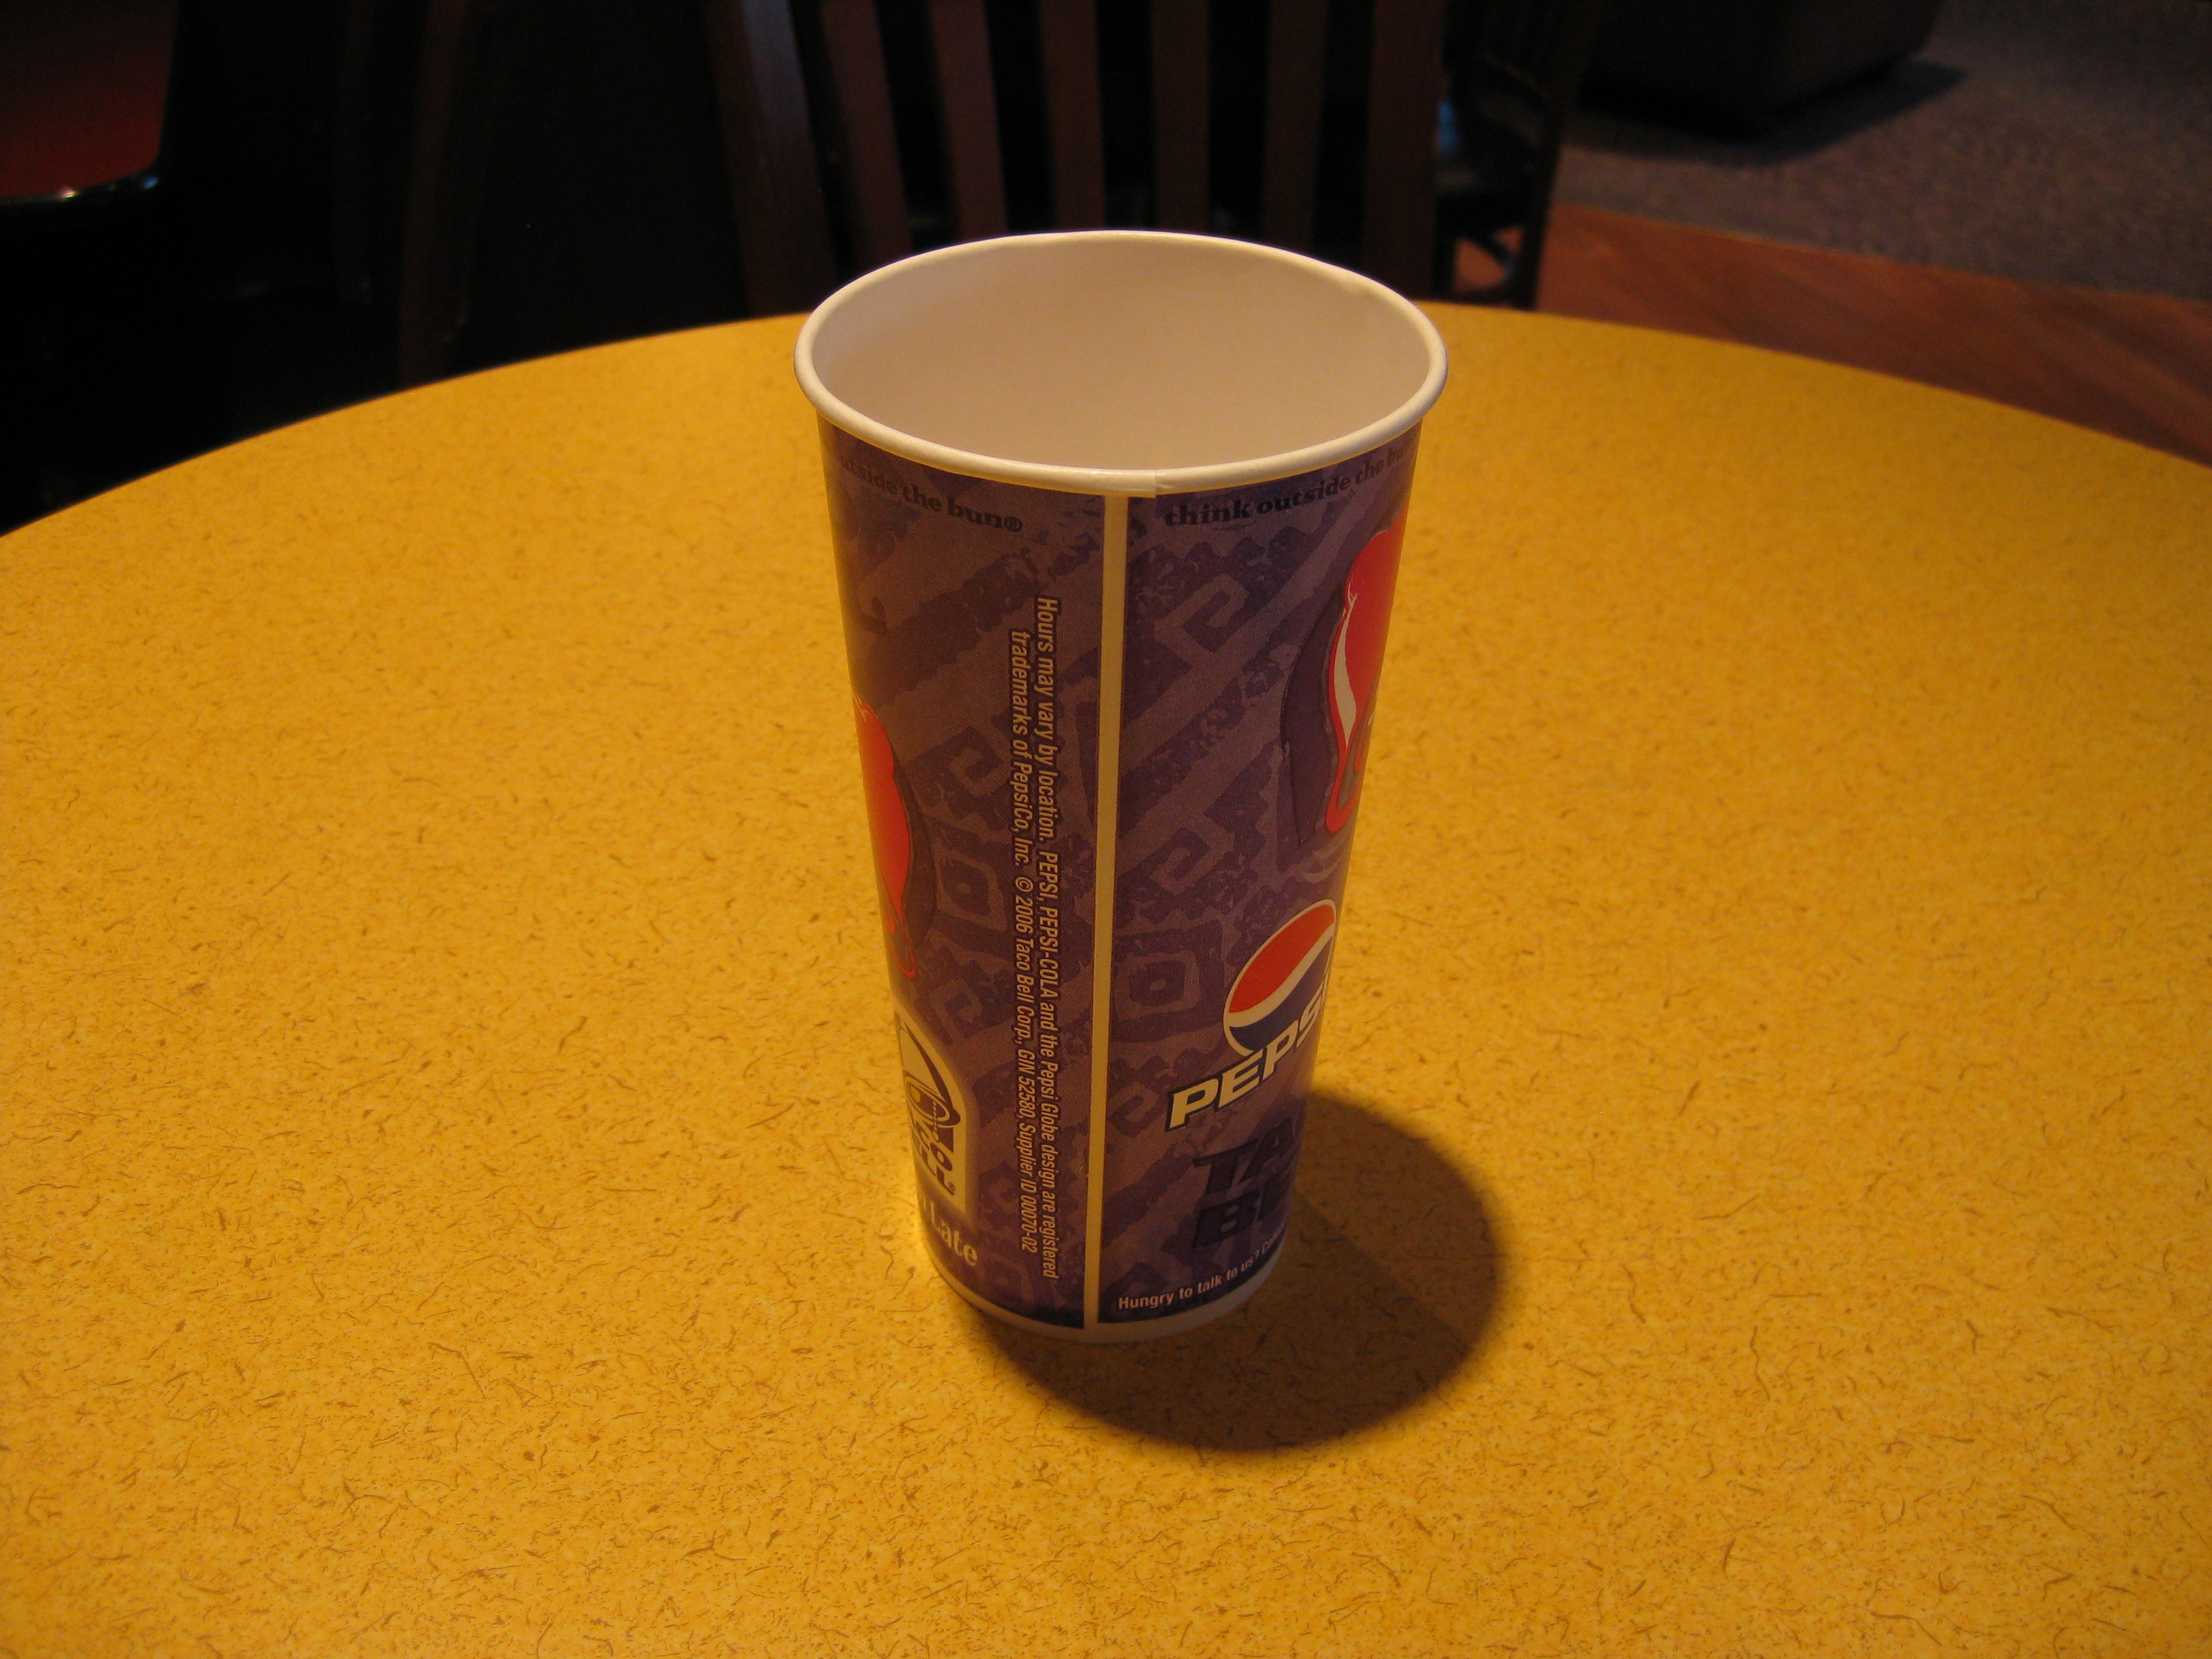drink: (790, 215, 1473, 1372)
